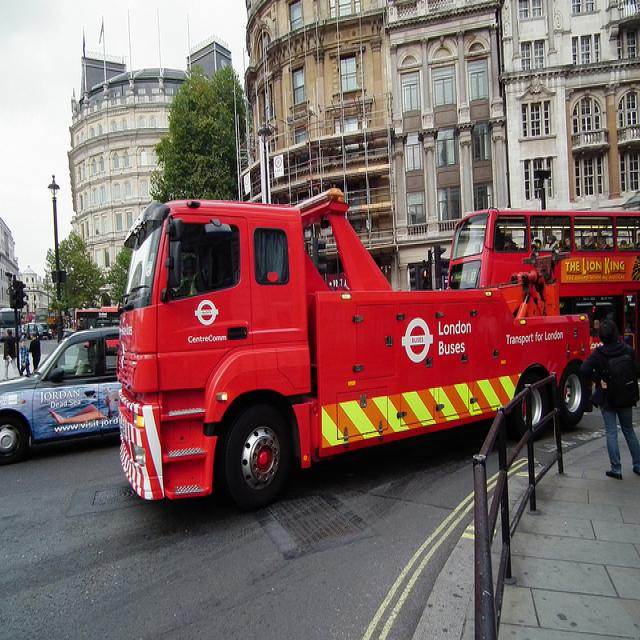Vehicle: (117, 185, 602, 515), (446, 206, 640, 300), (0, 326, 122, 464), (73, 304, 123, 334), (22, 322, 53, 340)
